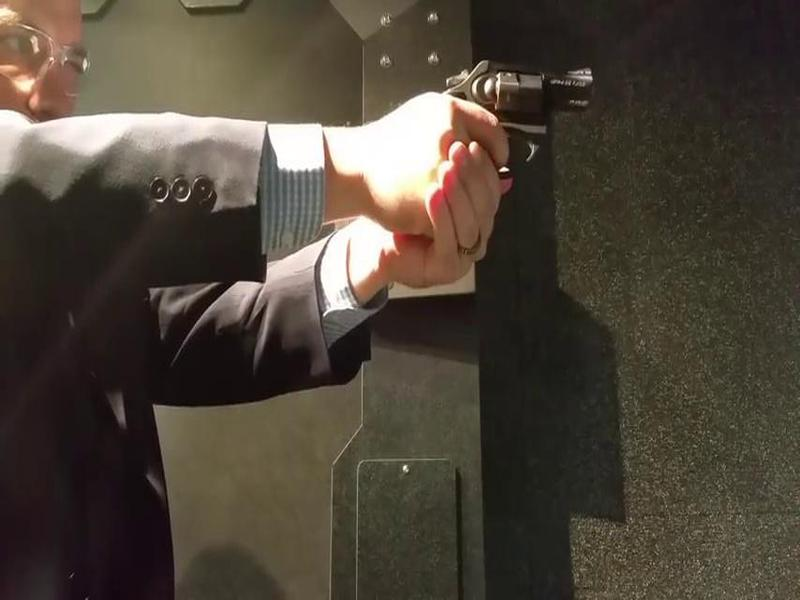Revolver: (439, 35, 634, 204)
